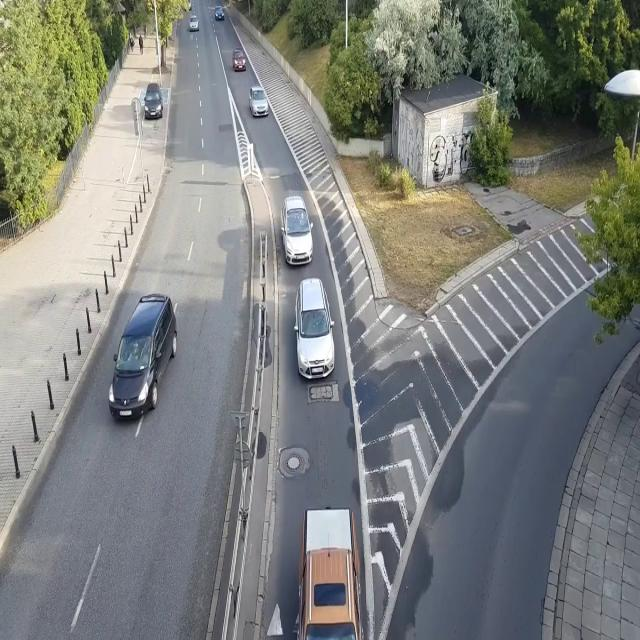car: (296, 505, 363, 640), (293, 276, 335, 382), (281, 195, 314, 268), (144, 83, 163, 119), (249, 86, 269, 117), (232, 48, 246, 72), (189, 15, 199, 32), (214, 5, 224, 21)
van: (108, 293, 178, 422)
